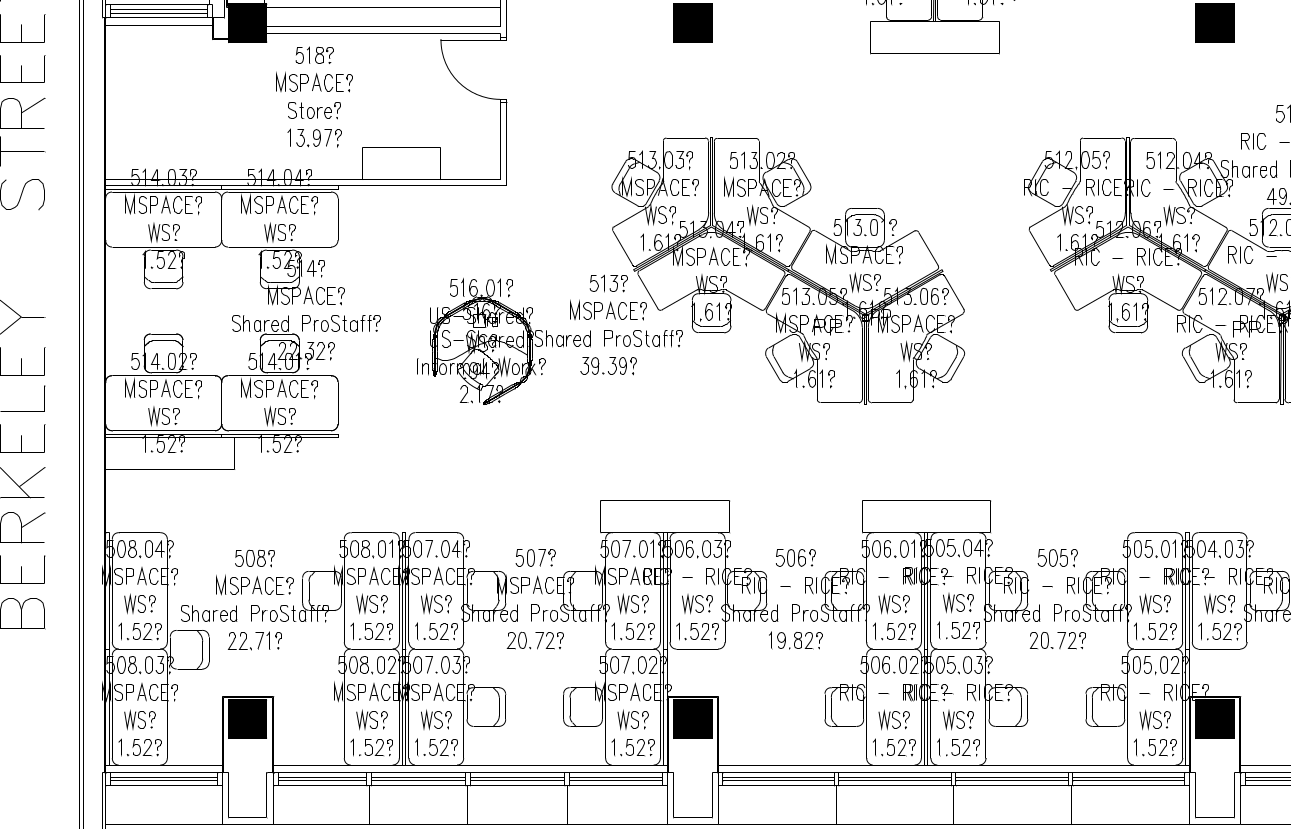door: (436, 36, 506, 108)
